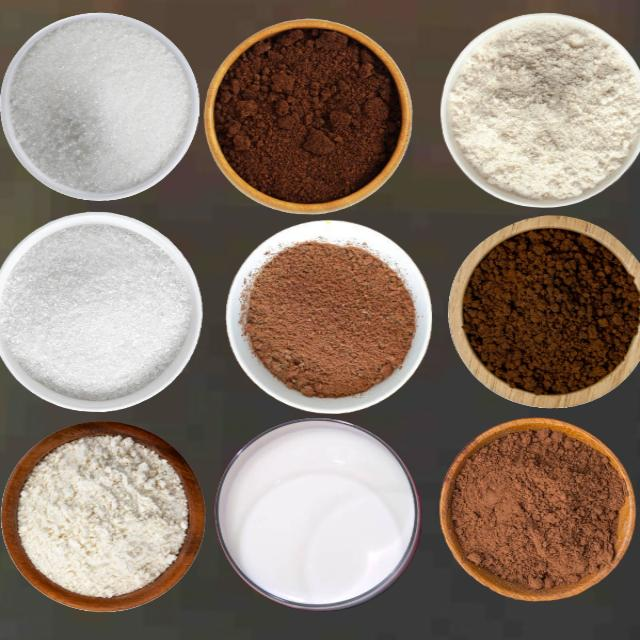Cocoa: (448, 426, 626, 594), (240, 240, 416, 398)
Coffee: (211, 24, 401, 204), (461, 226, 639, 395)
Flour: (448, 16, 639, 200), (16, 433, 188, 598)
Sugar: (0, 222, 191, 401), (7, 16, 191, 192)
